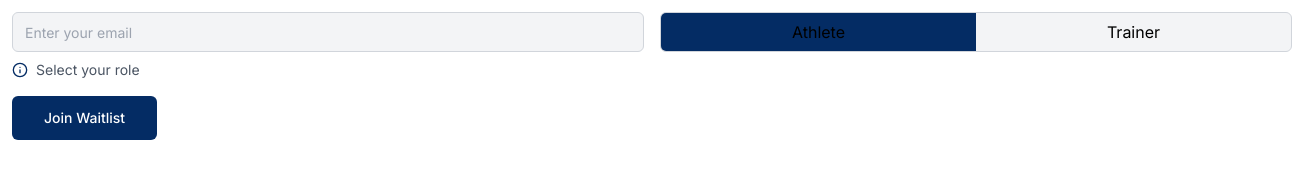
it: WaitlistForm › shows error when submitting without selecting role
Type "test@example.com" into the field with placeholder "Enter your email" at (328, 32), box [12,12,644,52]
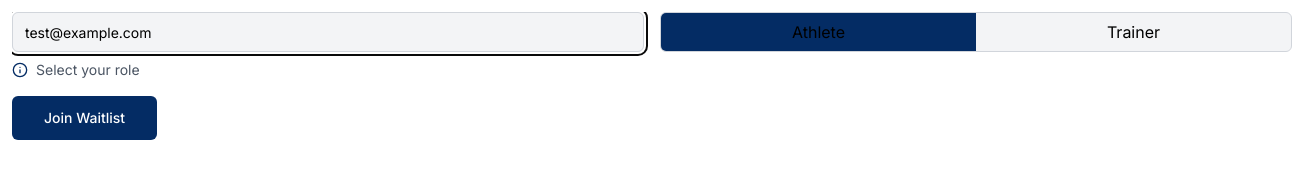
Click the button "Join Waitlist" at (85, 118), box [12,96,157,140]
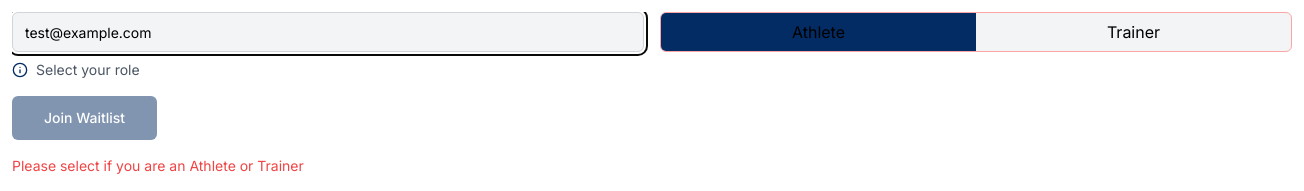
Now the text "Please select if you are an Athlete or Trainer" is shown, box [12,157,304,174]
